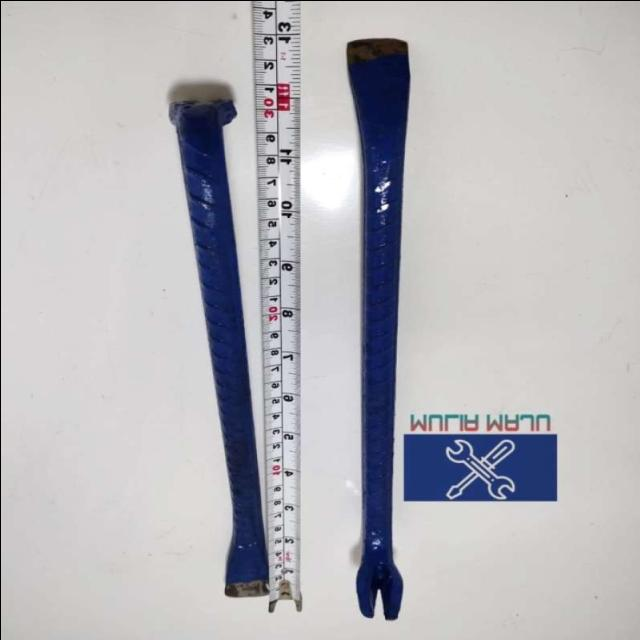Linggis: (345, 41, 414, 620)
